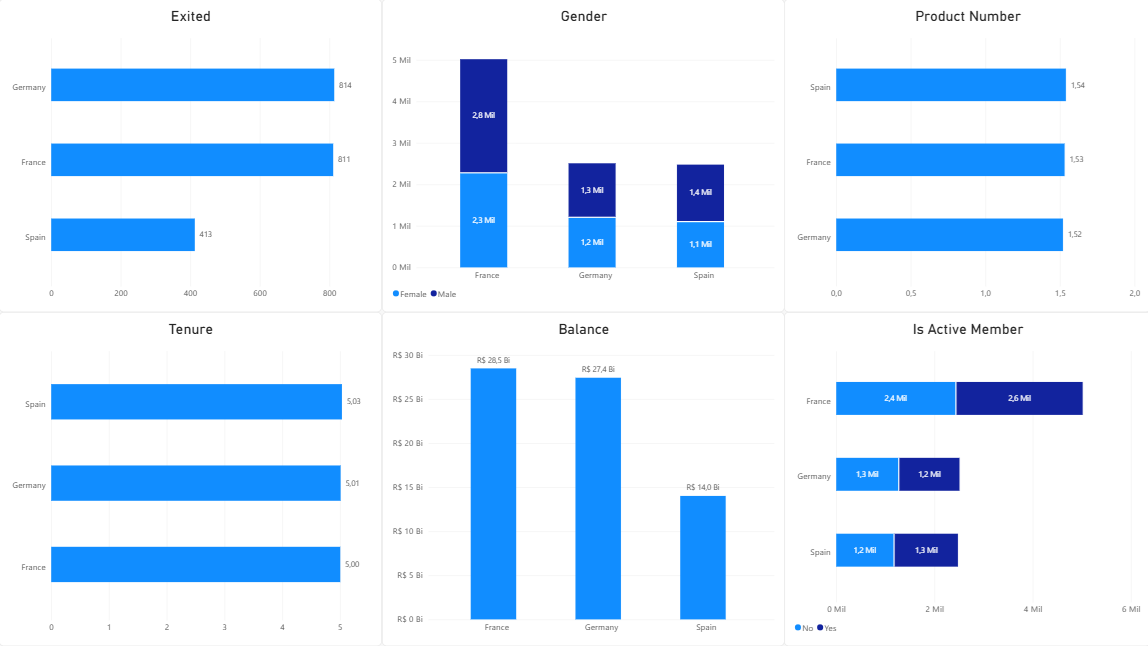

The page's visual inventory and layout, read from the dashboard file:
{"tool":"powerbi","page":{"name":"Difference Between Customers","canvas":[1920,1080],"ordinal":2},"visuals":[{"type":"barChart","title":"Is Active Member","fields":{"Category":["DimCustomer.Geography"],"Series":["DimCustomer.IsActiveMember"],"Y":["CountNonNull(DimCustomer.IsActiveMember)"]},"box":[1308.7,522.3,611.3,557.3],"z":0},{"type":"columnChart","title":"Gender","fields":{"Category":["DimCustomer.Geography"],"Series":["DimCustomer.Gender"],"Y":["CountNonNull(ftCustomer.CustomerId)"]},"box":[637.6,0,671.1,522.3],"z":1000},{"type":"barChart","title":"Exited","fields":{"Category":["DimCustomer.Geography"],"Y":["Sum(DimCustomer.Exited)"]},"box":[0,0,637.6,522.3],"z":2000},{"type":"barChart","title":"Product Number","fields":{"Category":["DimCustomer.Geography"],"Y":["Avg(DimCustomer.NumOfProducts)"]},"box":[1308.7,0,611.3,522.3],"z":3000},{"type":"barChart","title":"Tenure","fields":{"Category":["DimCustomer.Geography"],"Y":["Avg(DimCustomer.Tenure)"]},"box":[0,522.3,637.6,557.3],"z":4000},{"type":"columnChart","title":"Balance ","fields":{"Category":["DimCustomer.Geography"],"Y":["Sum(ftCustomer.Balance)"]},"box":[637.6,522.3,671.1,557.3],"z":5000}]}

Visuals, with their boxes in screenshot pixels (x1, y1, x2, y2), scaled from the page's 1920x1080 canvas onto the 1148x646 screenshot:
"Is Active Member" barChart: rect(782, 312, 1147, 645)
"Gender" columnChart: rect(381, 0, 782, 312)
"Exited" barChart: rect(0, 0, 381, 312)
"Product Number" barChart: rect(782, 0, 1147, 312)
"Tenure" barChart: rect(0, 312, 381, 645)
"Balance " columnChart: rect(381, 312, 782, 645)
